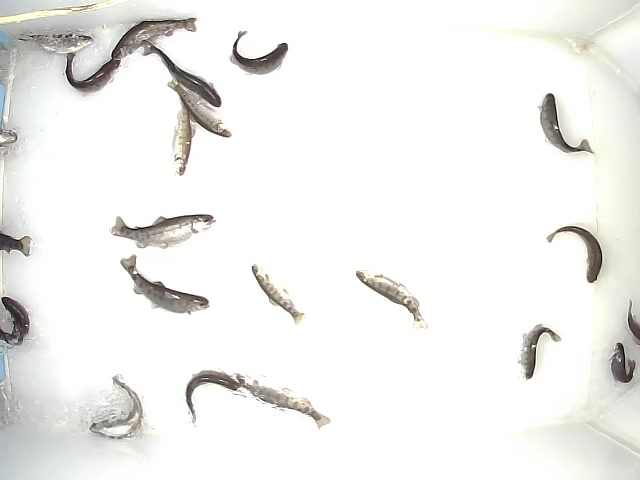fish: (139, 38, 224, 109), (118, 254, 211, 315), (244, 375, 333, 432), (355, 269, 428, 330), (109, 210, 217, 250), (86, 370, 143, 441), (166, 78, 233, 138), (108, 16, 200, 58), (537, 91, 596, 156), (182, 369, 247, 427), (545, 224, 603, 283), (252, 266, 305, 325), (230, 29, 295, 75), (516, 324, 563, 381), (64, 53, 121, 95), (171, 91, 193, 177), (20, 33, 93, 55), (608, 341, 640, 383)
